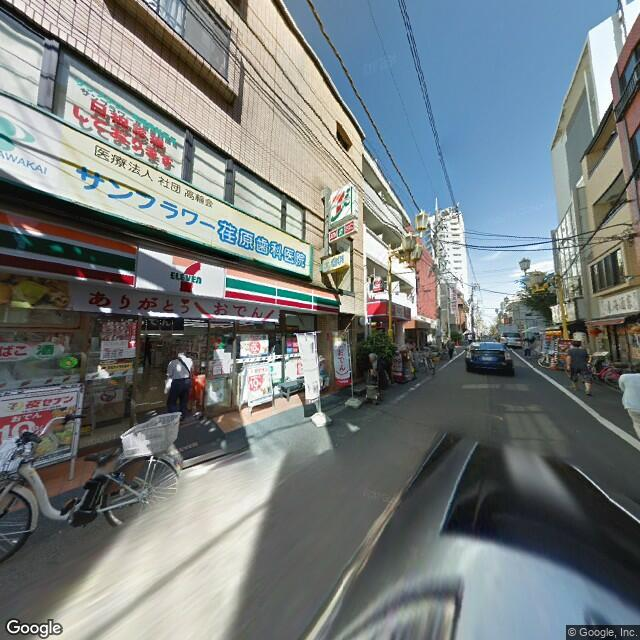7-eleven: (1, 208, 339, 322), (329, 183, 354, 223)
